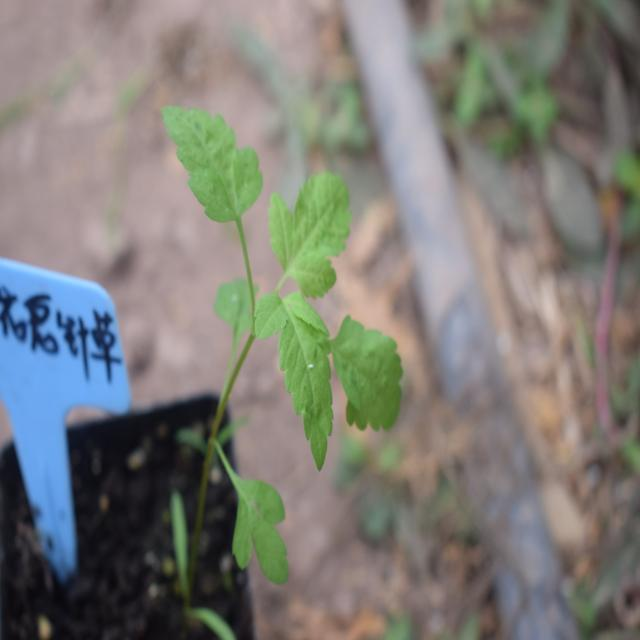Bidens pilosa: (156, 93, 414, 496)
